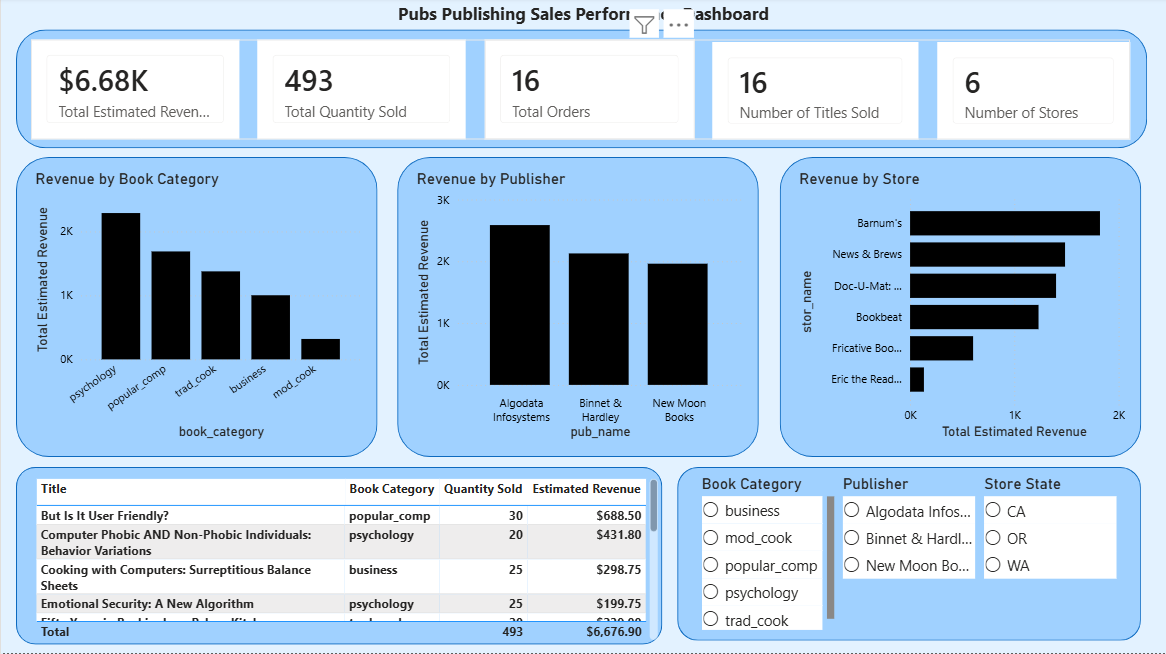

This screenshot's page, from the dashboard's own definition file:
{"tool":"powerbi","page":{"name":"Page 1","canvas":[1280,720],"ordinal":0},"visuals":[{"type":"group","id":"g1","title":"Group 1","box":[16.5,175.6,396.9,329.3],"z":0,"group":"g4"},{"type":"shape","box":[16.5,175.6,396.9,329.3],"z":0,"group":"g1"},{"type":"shape","box":[435.6,175.6,396.9,329.3],"z":0,"group":"g2"},{"type":"shape","box":[854.6,175.6,396.9,329.3],"z":0,"group":"g3"},{"type":"shape","box":[742.4,516,509.1,190.7],"z":0},{"type":"group","id":"g2","title":"Group 1","box":[435.6,175.6,396.9,329.3],"z":1000,"group":"g4"},{"type":"shape","box":[16.5,516,699.8,194.9],"z":1000},{"type":"shape","box":[0,35.7,1280.3,131.7],"z":2000},{"type":"cardVisual","fields":{"Data":["sales_detail.Total Estimated Revenue"]},"box":[23.3,46.7,234.6,109.8],"z":2000,"group":"g5"},{"type":"group","id":"g3","title":"Group 1","box":[854.6,175.6,396.9,329.3],"z":2000,"group":"g4"},{"type":"textbox","box":[425.9,0,428.1,35.7],"z":3000},{"type":"cardVisual","fields":{"Data":["sales_detail.Total Quantity Sold"]},"box":[278.2,46.7,234.6,109.8],"z":3000,"group":"g5"},{"type":"cardVisual","fields":{"Data":["sales_detail.Total Orders"]},"box":[533.1,46.7,236,109.8],"z":4000,"group":"g5"},{"type":"group","id":"g4","title":"Group 2","box":[16.5,175.6,1235,329.3],"z":4000},{"type":"cardVisual","fields":{"Data":["sales_detail.Number of Titles Sold"]},"box":[789.3,49.4,231.9,107],"z":5000,"group":"g5"},{"type":"tableEx","fields":{"Values":["sales_detail.title","sales_detail.book_category","Sum(sales_detail.qty)","Sum(sales_detail.estimated_revenue)"]},"box":[32.9,524.2,669.6,186.6],"z":5000},{"type":"group","id":"g5","title":"Group 3","box":[23.3,46.7,1235,109.8],"z":6000},{"type":"cardVisual","fields":{"Data":["sales_detail.Number of Stores"]},"box":[1041.5,49.4,216.8,107],"z":6000,"group":"g5"},{"type":"listSlicer","fields":{"Values":["sales_detail.book_category"]},"box":[764.3,524.2,155.1,175.6],"z":7000},{"type":"listSlicer","title":"publisher_name","fields":{"Values":["sales_detail.pub_name"]},"box":[919.4,524.2,155.1,175.6],"z":7001},{"type":"listSlicer","fields":{"Values":["sales_detail.store_state"]},"box":[1074.4,524.2,155.1,175.6],"z":7002},{"type":"clusteredColumnChart","title":"Revenue by Book Category","fields":{"Y":["sales_detail.Total Estimated Revenue"],"Category":["sales_detail.book_category"]},"box":[33.2,188.9,367.7,301.4],"z":8000,"group":"g1"},{"type":"clusteredColumnChart","title":"Revenue by Publisher","fields":{"Y":["sales_detail.Total Estimated Revenue"],"Category":["sales_detail.pub_name"]},"box":[452.3,188.9,367.7,301.4],"z":8000,"group":"g2"},{"type":"clusteredBarChart","title":"Revenue by Store","fields":{"Y":["sales_detail.Total Estimated Revenue"],"Category":["sales_detail.stor_name"]},"box":[871.3,188.9,367.7,301.4],"z":8000,"group":"g3"}]}

Visuals, with their boxes in screenshot pixels (x1, y1, x2, y2), scaled from the page's 1280x720 canvas onto the 1166x654 screenshot:
"Group 1" group: 15, 160, 377, 459
shape: 15, 160, 377, 459
shape: 397, 160, 758, 459
shape: 778, 160, 1140, 459
shape: 676, 469, 1140, 642
"Group 1" group: 397, 160, 758, 459
shape: 15, 469, 653, 646
shape: 0, 32, 1165, 152
cardVisual - sales_detail.Total Estimated Revenue: 21, 42, 235, 142
"Group 1" group: 778, 160, 1140, 459
textbox: 388, 0, 778, 32
cardVisual - sales_detail.Total Quantity Sold: 253, 42, 467, 142
cardVisual - sales_detail.Total Orders: 486, 42, 701, 142
"Group 2" group: 15, 160, 1140, 459
cardVisual - sales_detail.Number of Titles Sold: 719, 45, 930, 142
tableEx - sales_detail.title x sales_detail.book_category: 30, 476, 640, 646
"Group 3" group: 21, 42, 1146, 142
cardVisual - sales_detail.Number of Stores: 949, 45, 1146, 142
listSlicer - sales_detail.book_category: 696, 476, 838, 636
"publisher_name" listSlicer: 838, 476, 979, 636
listSlicer - sales_detail.store_state: 979, 476, 1120, 636
"Revenue by Book Category" clusteredColumnChart: 30, 172, 365, 445
"Revenue by Publisher" clusteredColumnChart: 412, 172, 747, 445
"Revenue by Store" clusteredBarChart: 794, 172, 1129, 445
